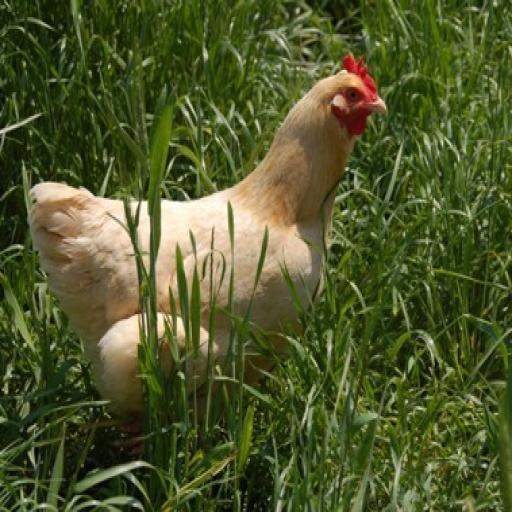healthy: (322, 51, 390, 146)
